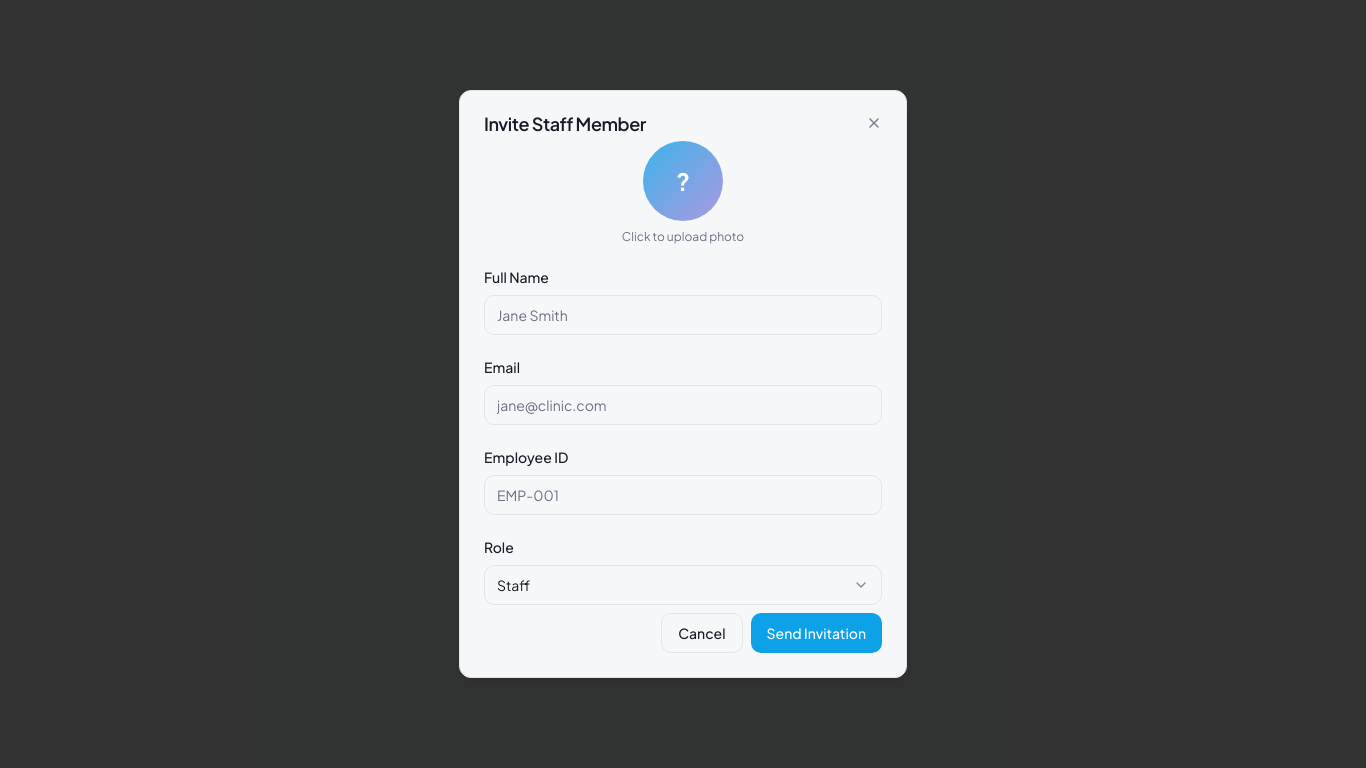
it: StaffFormDialog › flags invalid email format via the Yup schema
Type "Jane Staff" into the field labelled "Full Name".
click(683, 315); type("Jane Staff")  # box [484,295,882,335]
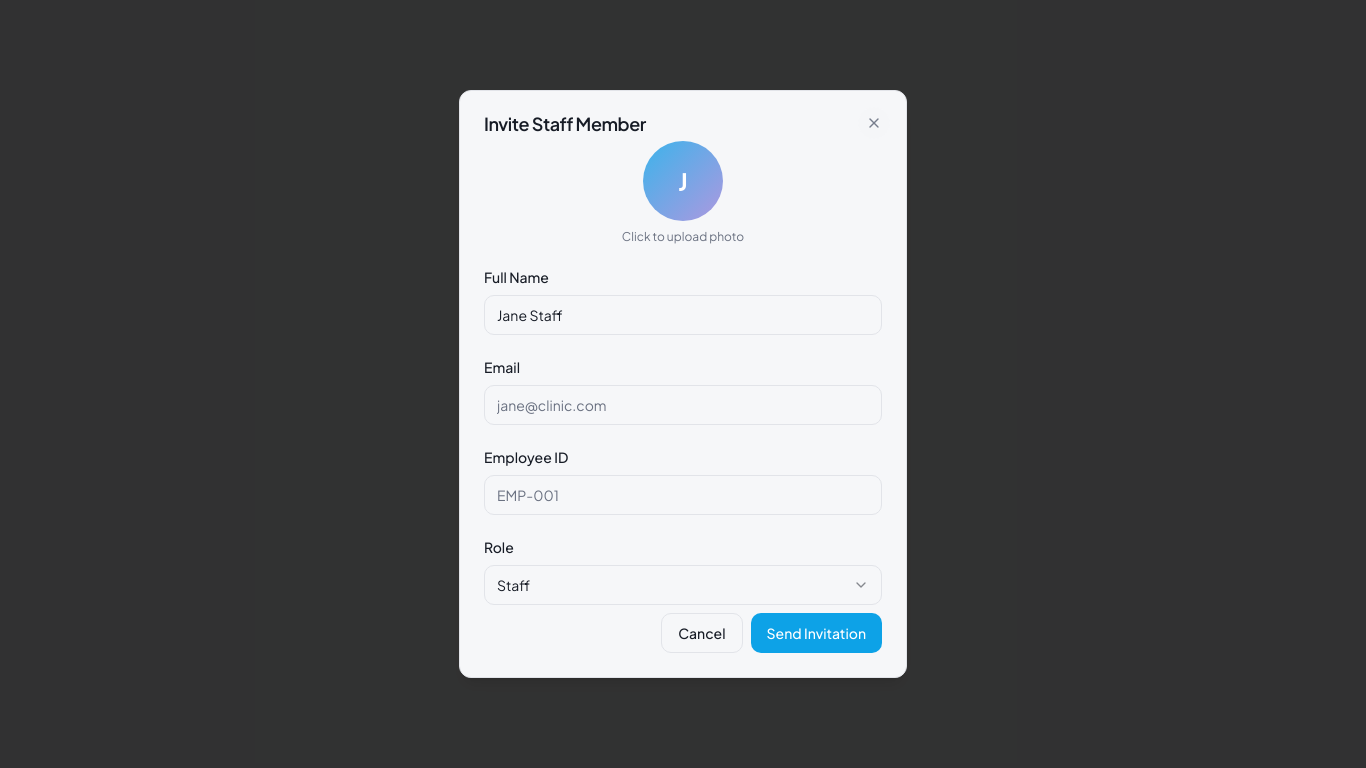
Type "not-an-email" into the field labelled "Email".
click(683, 405); type("not-an-email")  # box [484,385,882,425]
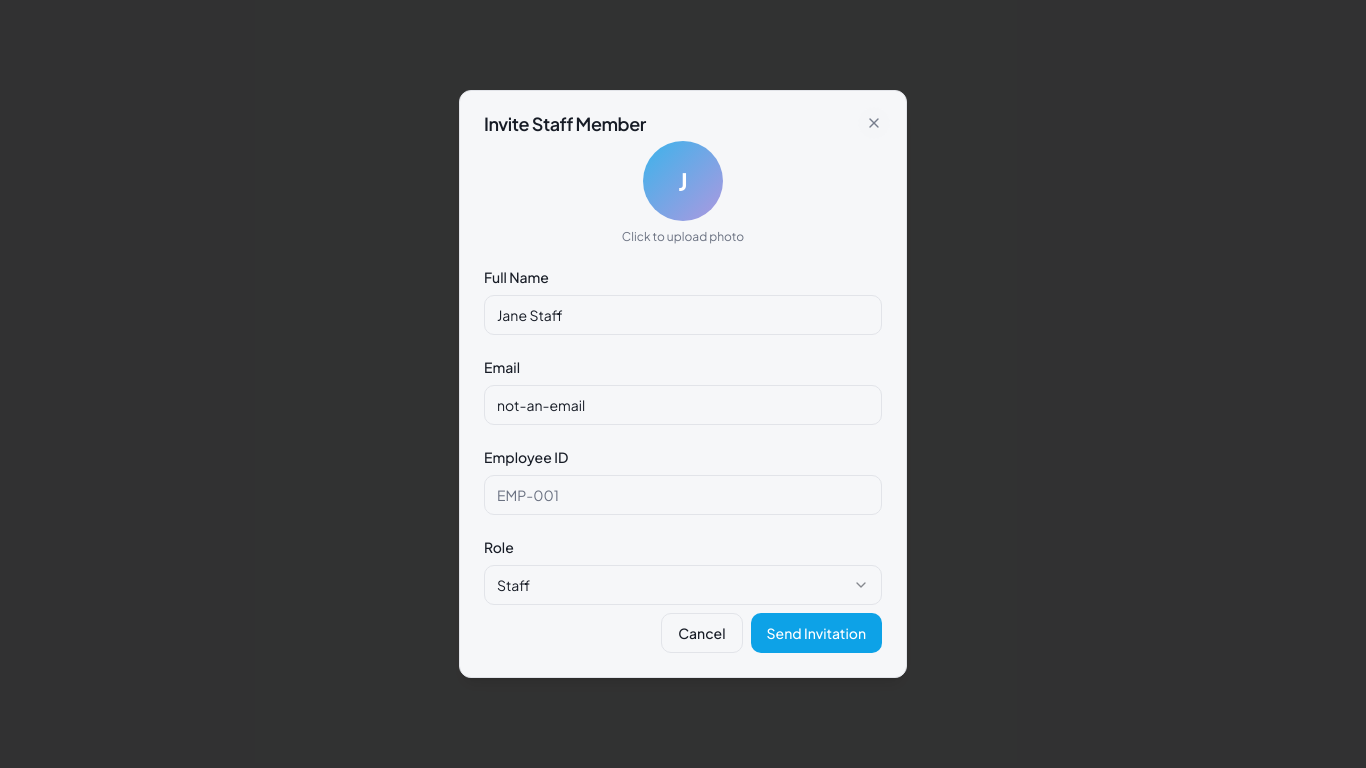
Type "EMP-1" into the field labelled "Employee ID".
click(683, 495); type("EMP-1")  # box [484,475,882,515]
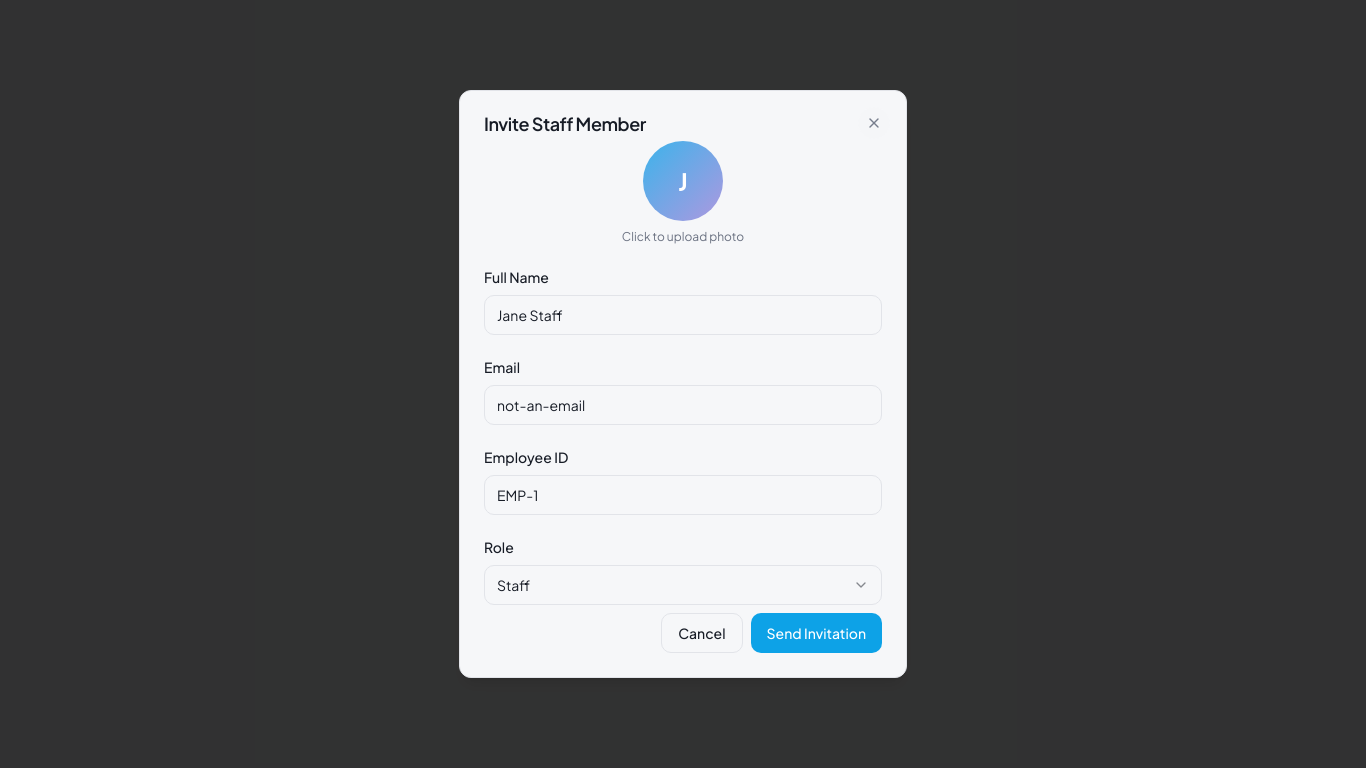
Click the button "Send Invitation".
click(816, 633)  # box [750,613,882,653]
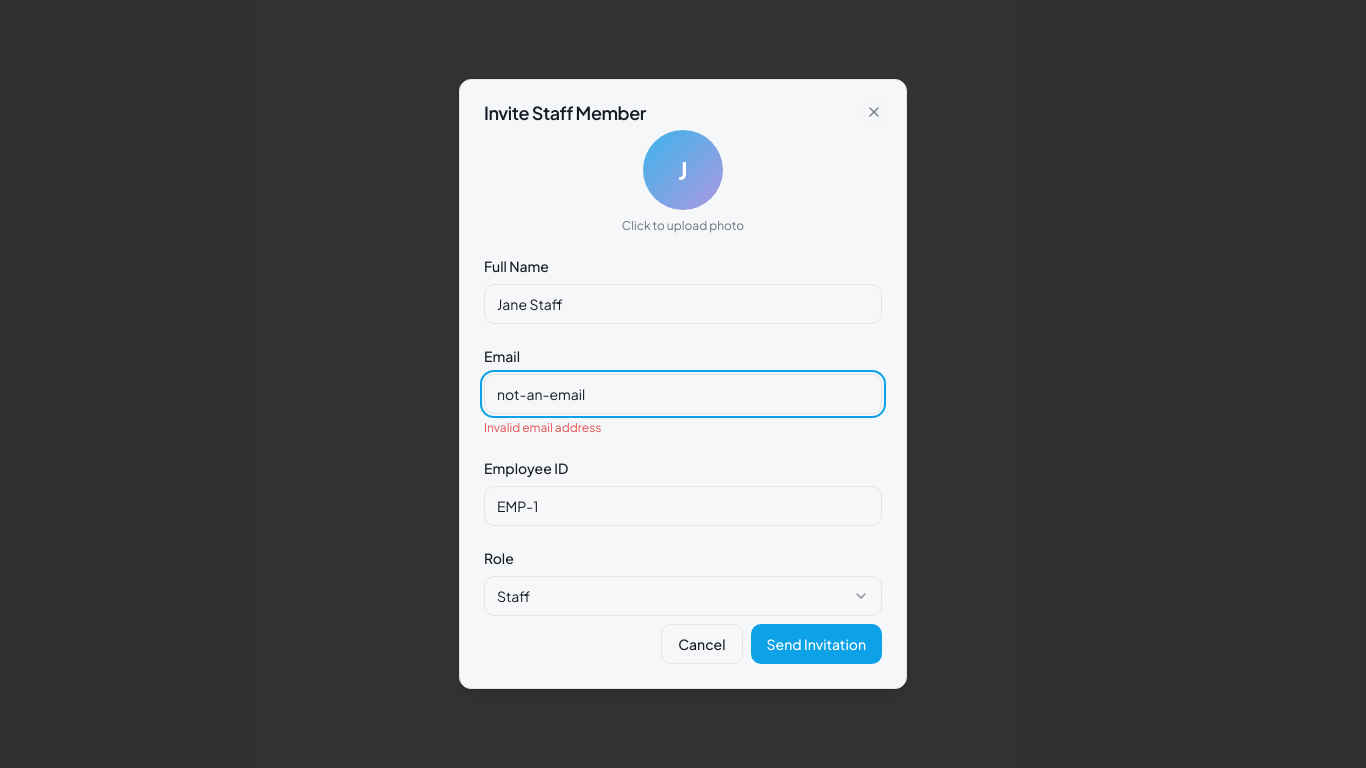
Expected: the text "Invalid email address" is shown, [484,420,601,435]
